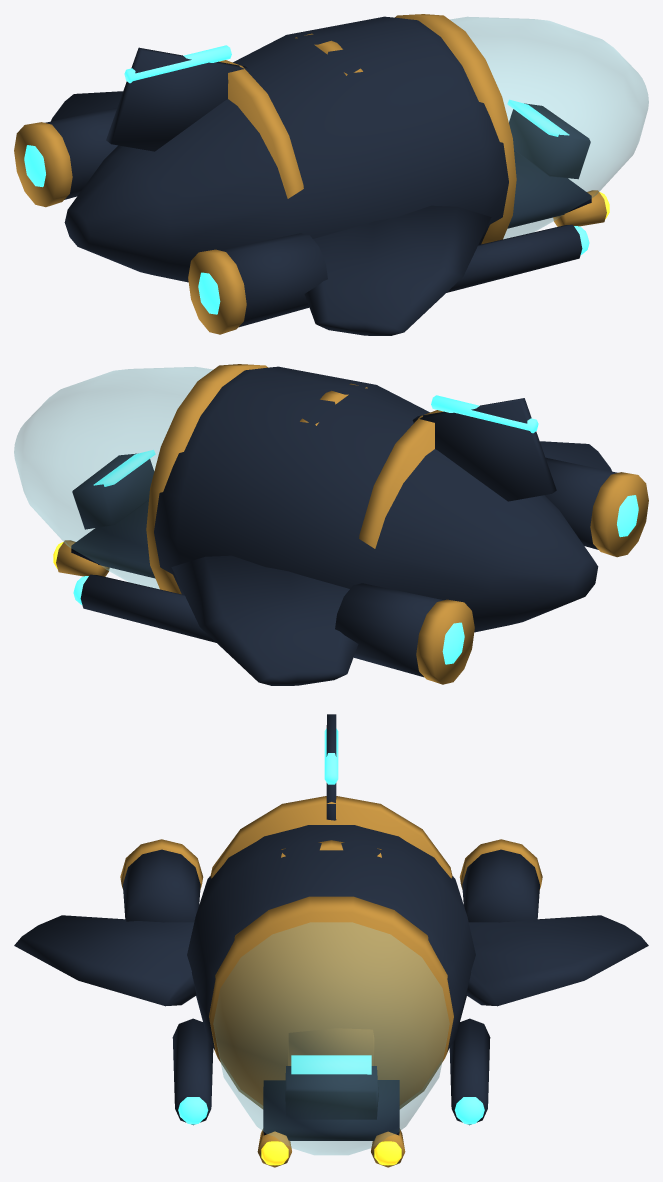
The model's file is reboot_sub_mk7.glb.
The picture shows the model from 3 angles, top to bottom: view 1: azimuth 30°, elevation 25°; view 2: azimuth 150°, elevation 25°; view 3: azimuth 270°, elevation 25°; orthographic projection. The views are drawn at different scales.
Visible parts, largest first — view 1: manta_hull, nose_dome, thrusterR, thrusterL, torpedo_pods; view 2: manta_hull, nose_dome, thrusterL, thrusterR, torpedo_pods; view 3: manta_hull, nose_dome, torpedo_pods, thrusterL, thrusterR.
Part boxes in pixels (<box>): manta_hull: <box>51,14,591,335</box>; nose_dome: <box>450,17,648,238</box>; thrusterR: <box>188,233,327,334</box>; thrusterL: <box>14,107,117,207</box>; torpedo_pods: <box>446,190,609,292</box>; manta_hull: <box>71,364,611,685</box>; nose_dome: <box>14,367,212,588</box>; thrusterL: <box>335,583,474,684</box>; thrusterR: <box>544,457,648,557</box>; torpedo_pods: <box>53,540,216,642</box>; manta_hull: <box>14,714,648,1140</box>; nose_dome: <box>213,922,449,1154</box>; torpedo_pods: <box>172,1018,490,1167</box>; thrusterL: <box>459,839,542,922</box>; thrusterR: <box>120,839,203,922</box>.
Size of the model in its own units: 2 by 0.9617 by 2.02.
